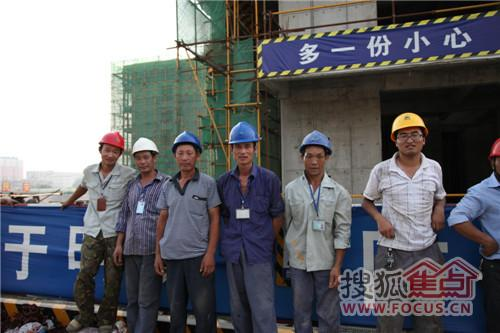boots: (65, 318, 82, 332)
hard-hat: (389, 111, 428, 141), (226, 121, 262, 144), (299, 130, 332, 155), (172, 131, 202, 154), (130, 137, 159, 156), (99, 130, 125, 150), (488, 137, 500, 159)
person: (361, 111, 447, 333), (61, 131, 138, 333), (216, 121, 285, 333), (282, 129, 353, 333), (154, 129, 222, 333), (111, 137, 172, 333), (446, 137, 500, 333)
